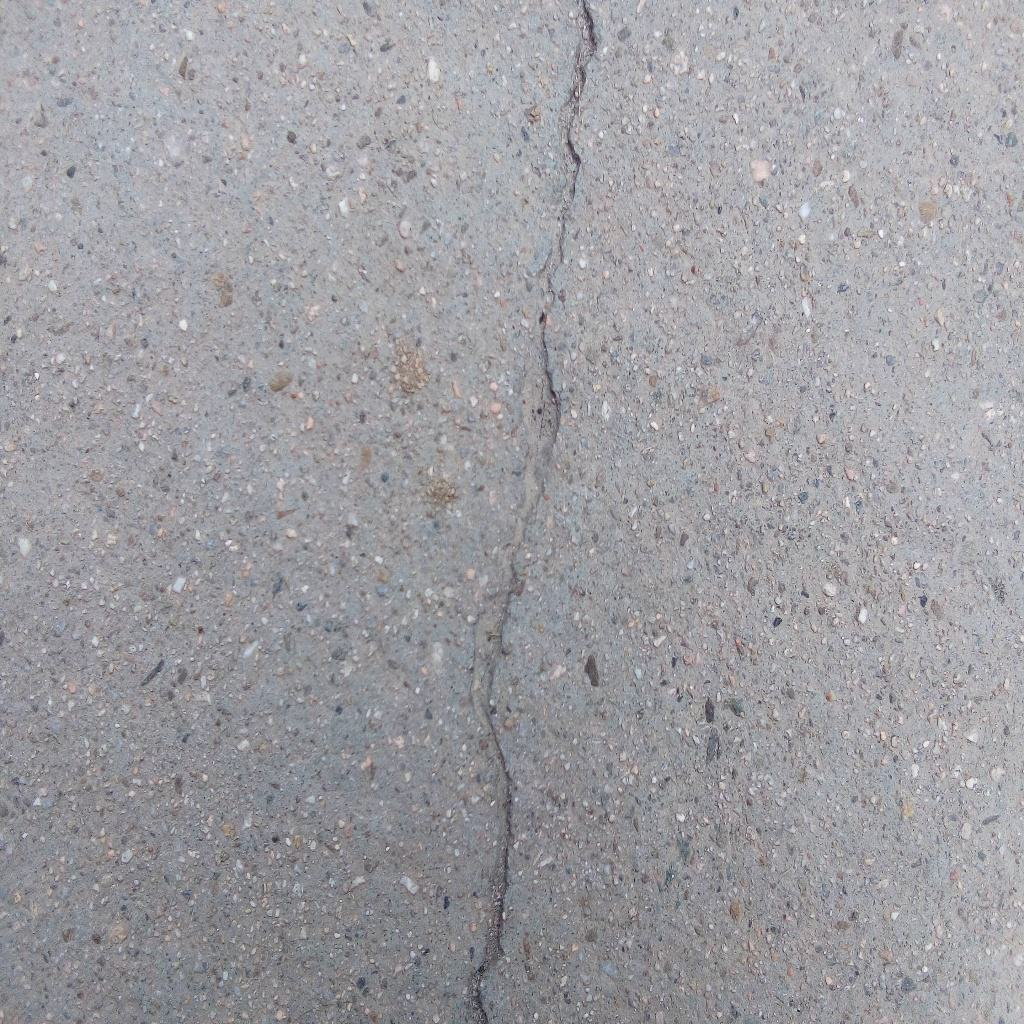Crack: (468, 1, 600, 1024)
